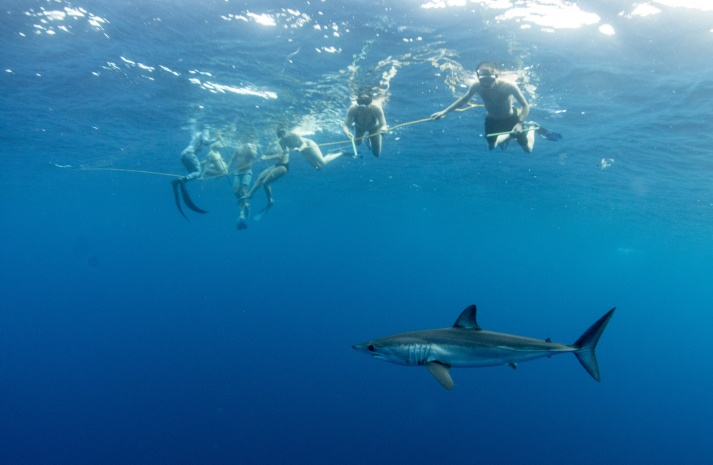Mako: (346, 295, 619, 395)
